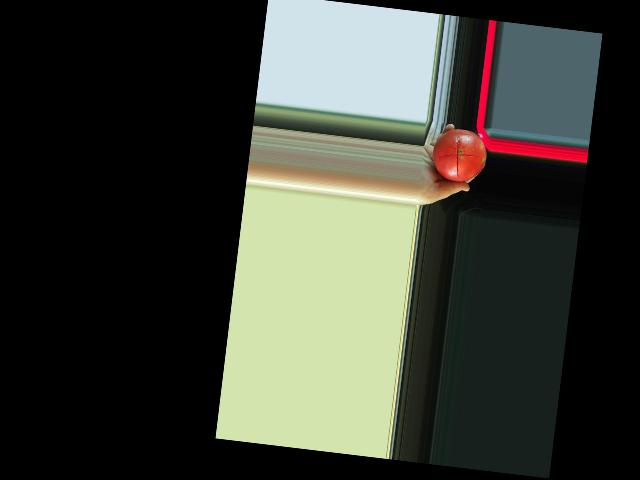tomato: (429, 125, 489, 184)
